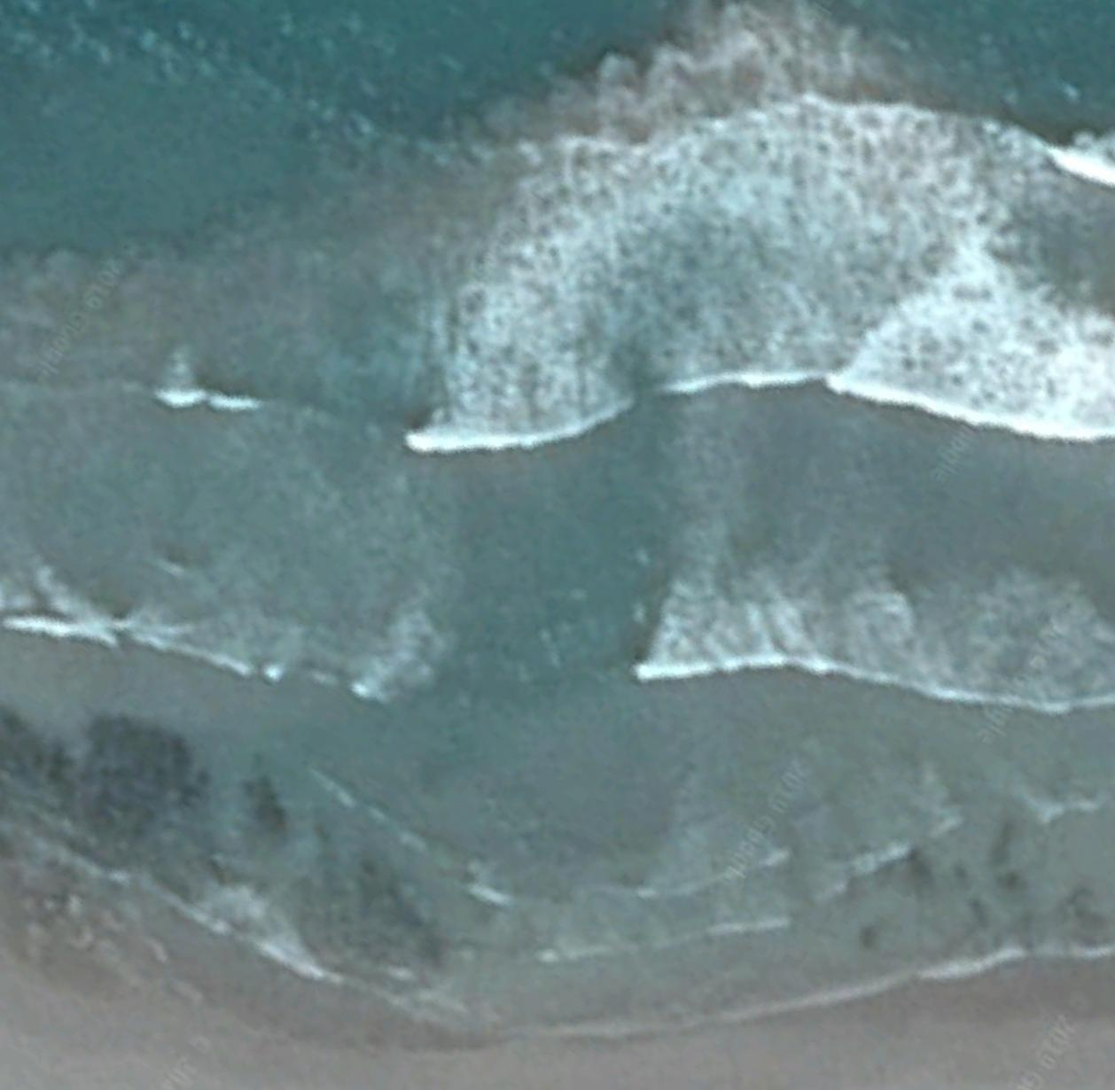rip_current: (339, 138, 729, 776)
